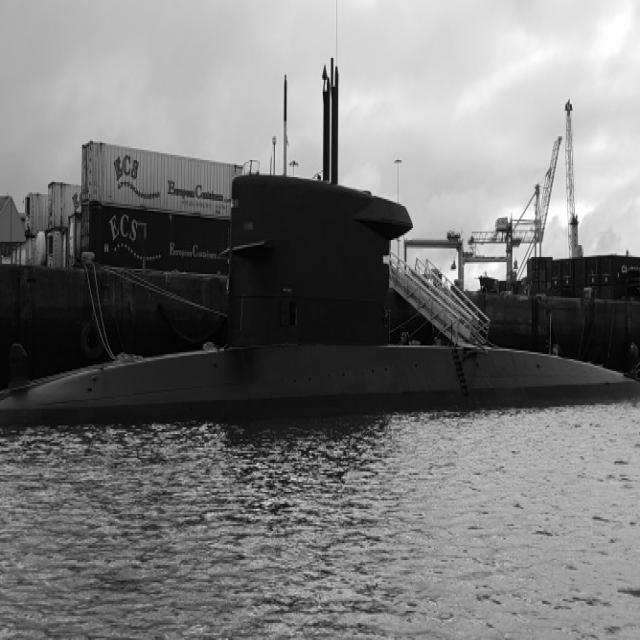submarine: (1, 182, 640, 439)
